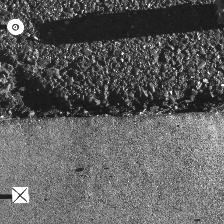circle: (7, 18, 24, 34)
crack: (1, 99, 223, 119)
square: (11, 187, 29, 203)
